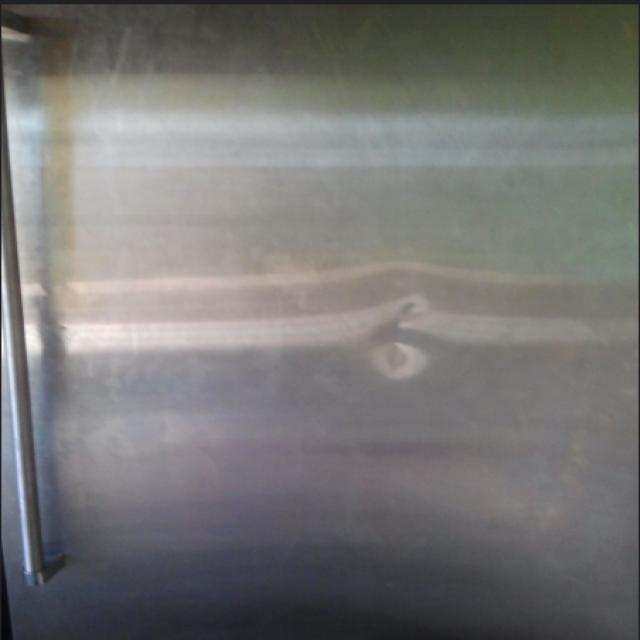dents: (363, 287, 463, 411)
